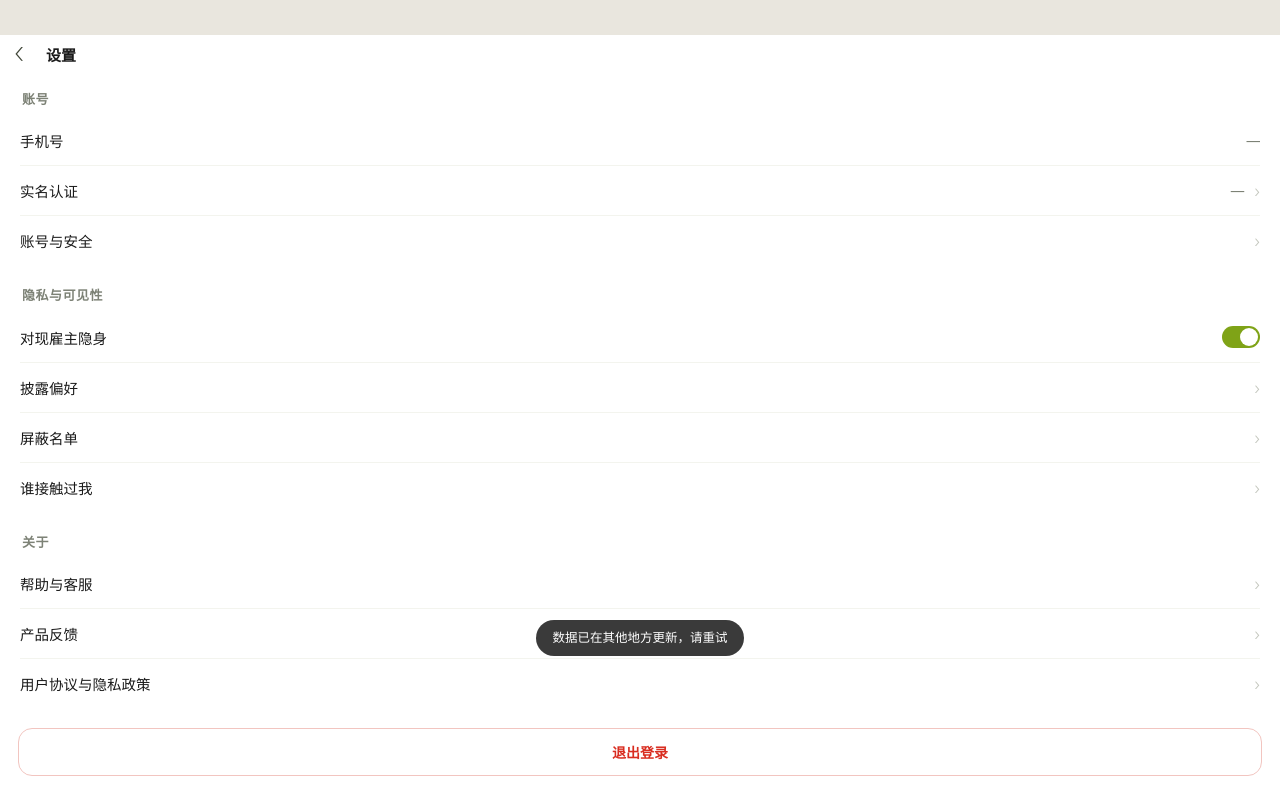
Test: 设置 · 退出确认键的可访问名称 › 确认层打开后，触发键与确认键的可访问名称互不相同
This screenshot has width=1280, height=800.
(page scrolled)
Click the button "退出登录": (640, 752) [18,728,1262,776]
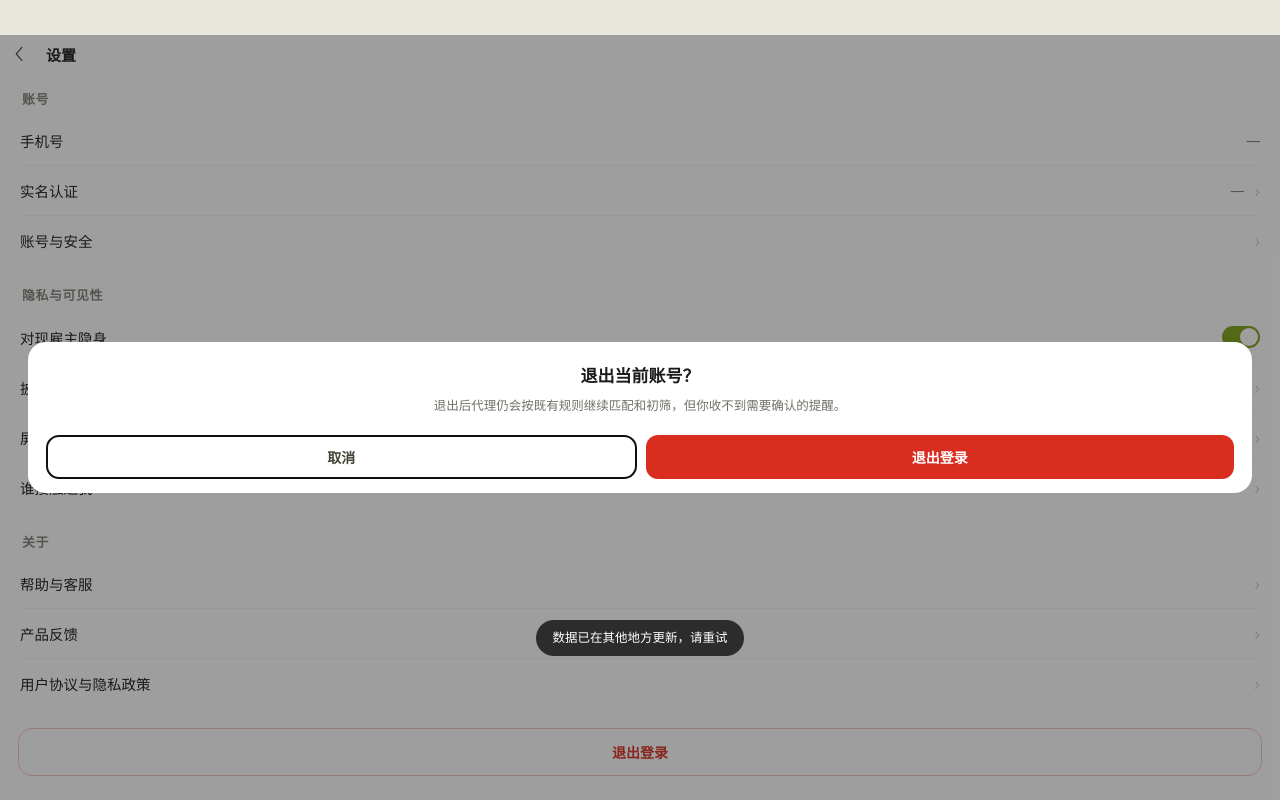
Expected: the number of buttons "退出登录" is 1, [18,728,1262,776]
Expected: the text "退出当前账号？" is shown, [580,366,700,386]
Expected: the button with aria-label "确认退出当前账号" is shown, [646,435,1234,479]
